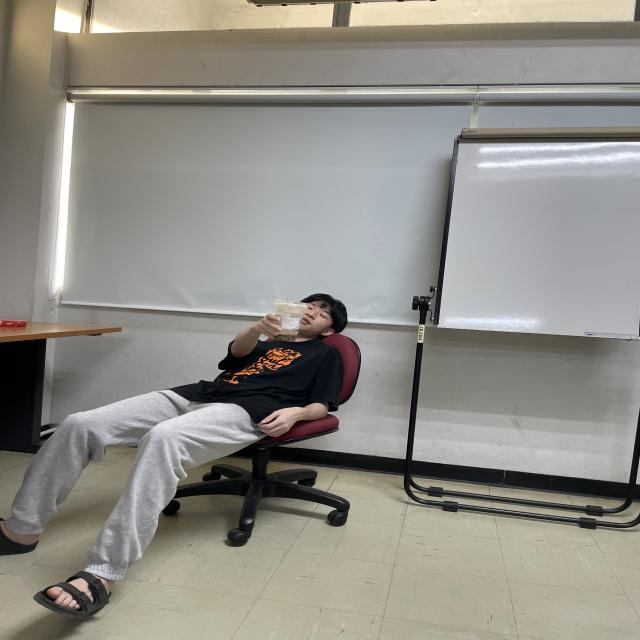cup: (272, 299, 308, 342)
